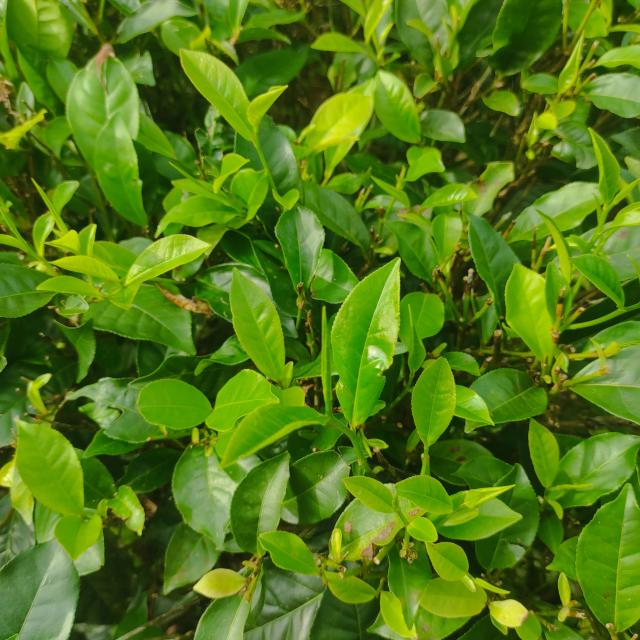unopened_leaf: (304, 295, 340, 417), (24, 174, 72, 234), (165, 157, 222, 200), (0, 202, 32, 246), (604, 176, 640, 214)
